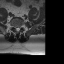CCS_stenosis: (17, 25, 18, 32)
LFS_stenosis: (20, 24, 21, 29)
LLS_normal: (18, 25, 20, 31)
RFS_severe_stenosis: (13, 24, 15, 29)
RLS_normal: (15, 25, 17, 31)
